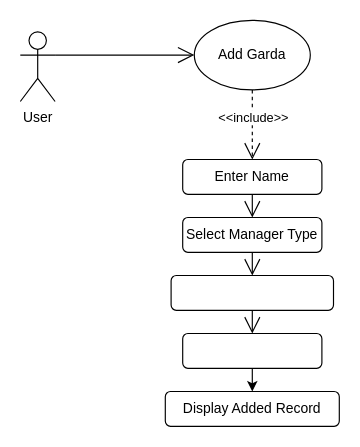
This 360x447 diagram has some shape labels left out. Here are the shapes that lost their labels. From the top down, the centre of each, then its label:
At (252,292): "Select Department Type".
At (252,350): "Confirmation".
